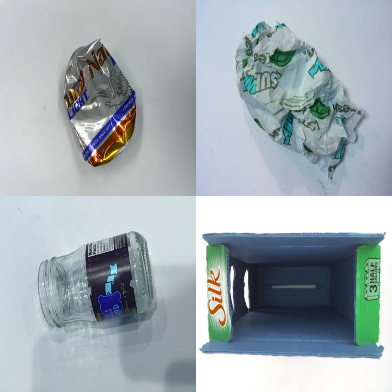cardboard: (201, 233, 384, 359)
glass: (37, 232, 155, 328)
metal: (64, 39, 137, 166)
paper: (235, 20, 366, 180)
